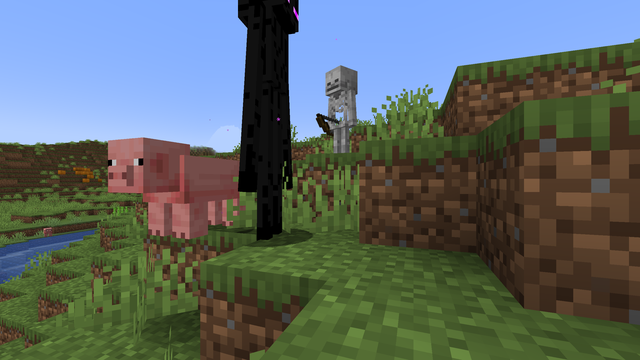cochons: (138, 152, 215, 240), (40, 227, 54, 236)
endermens: (230, 18, 305, 243)
squelettes: (324, 64, 357, 141)
